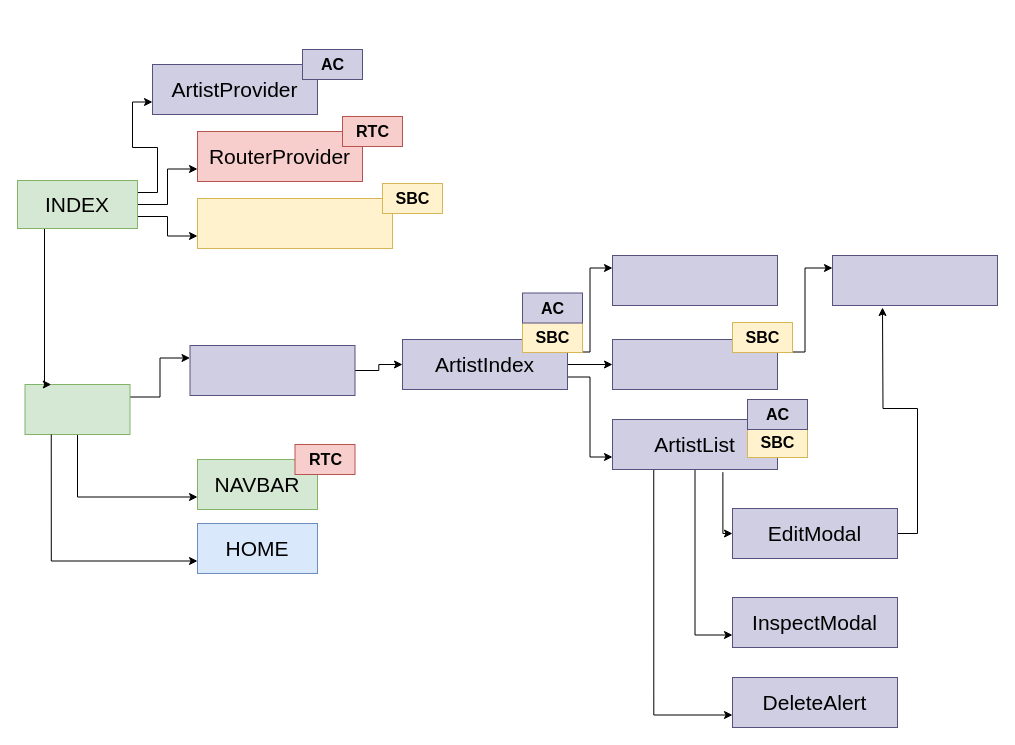
Some shapes in this 1015 by 745 pixel diagram are drawn without their labels. The centre of each missing label's shape, as x and y in pixels:
APP: [77,409]
ArtistForm: [915,280]
ArtistRoutes: [272,370]
ArtistSearcher: [695,280]
CreateModal: [695,364]
SnackbarProvider: [294,223]
